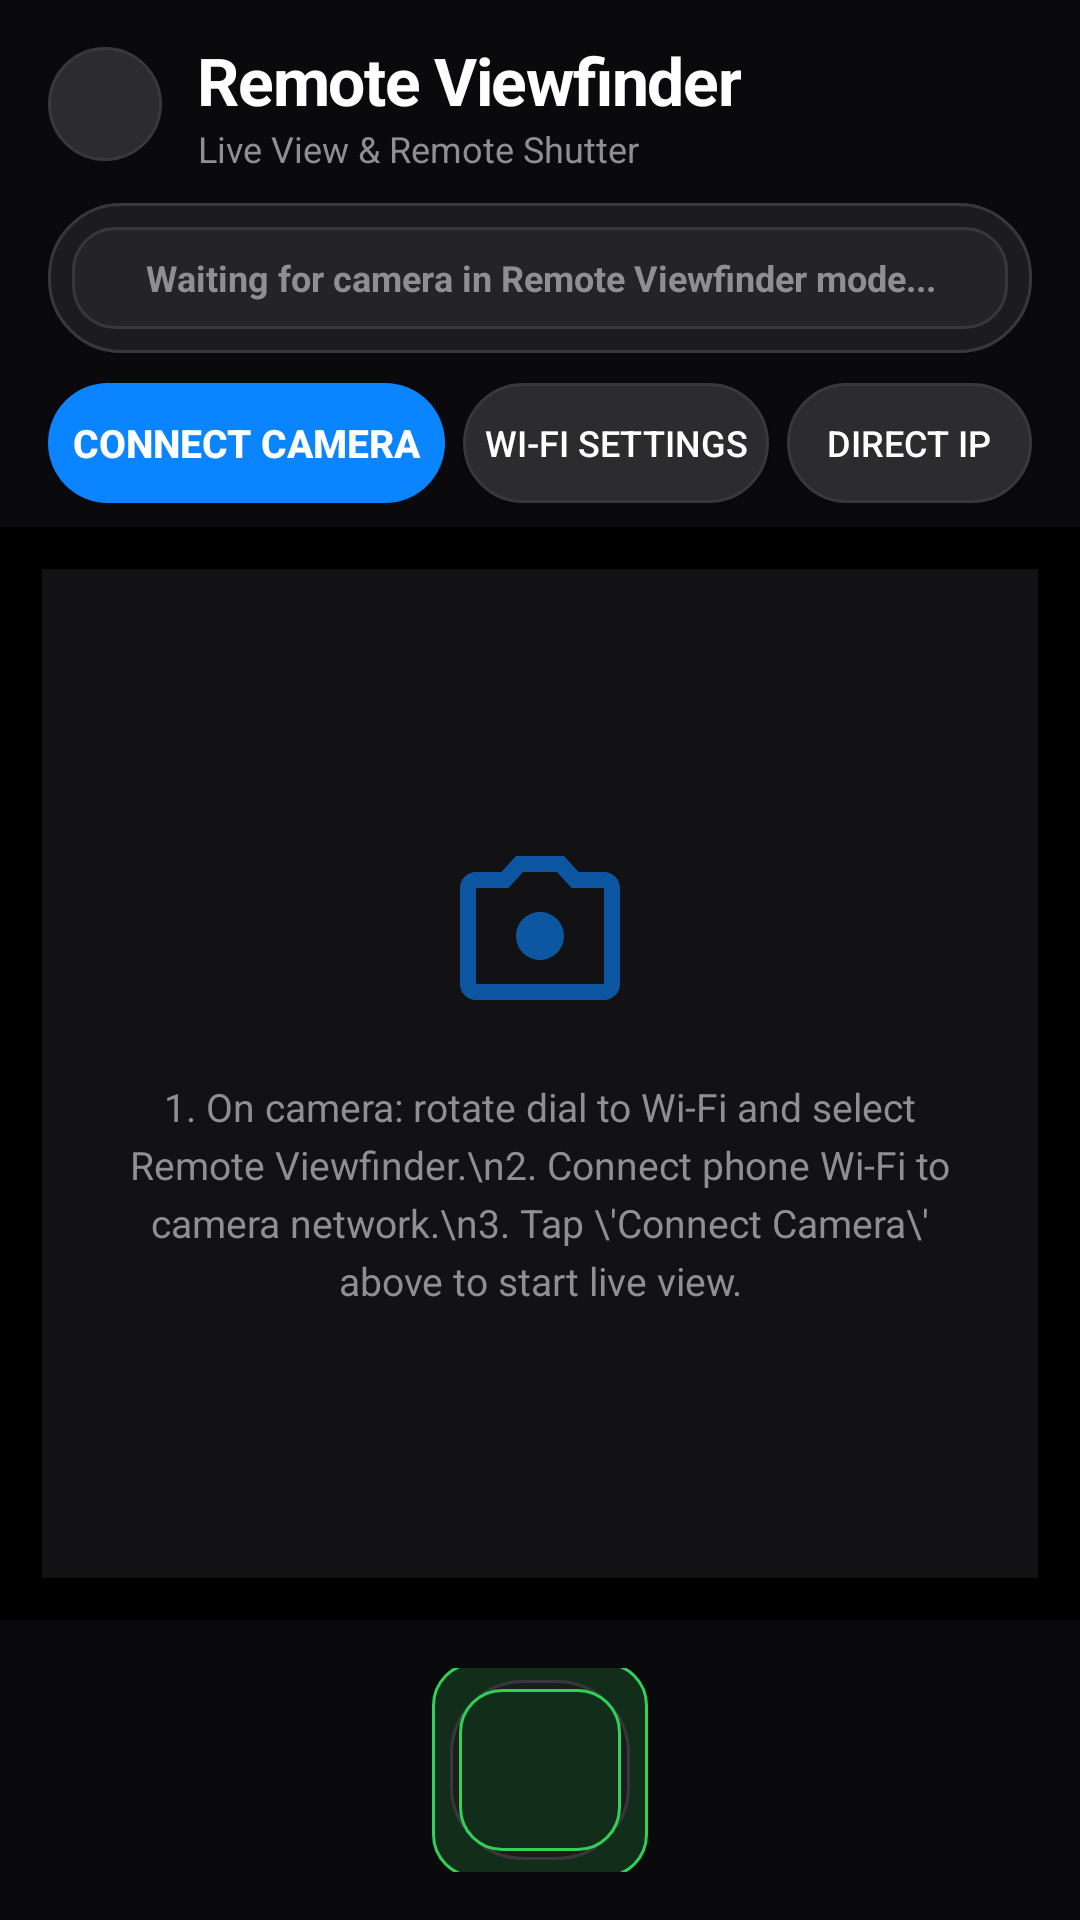

Point at icon controls on the screen. Image size 1080px×1920px, points as point (x, y).
Camera Lens: point (540, 928)
